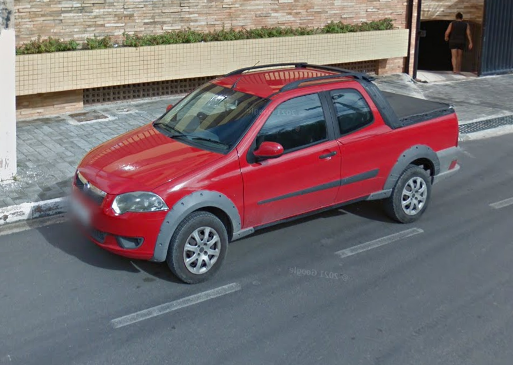car: (66, 59, 462, 286)
